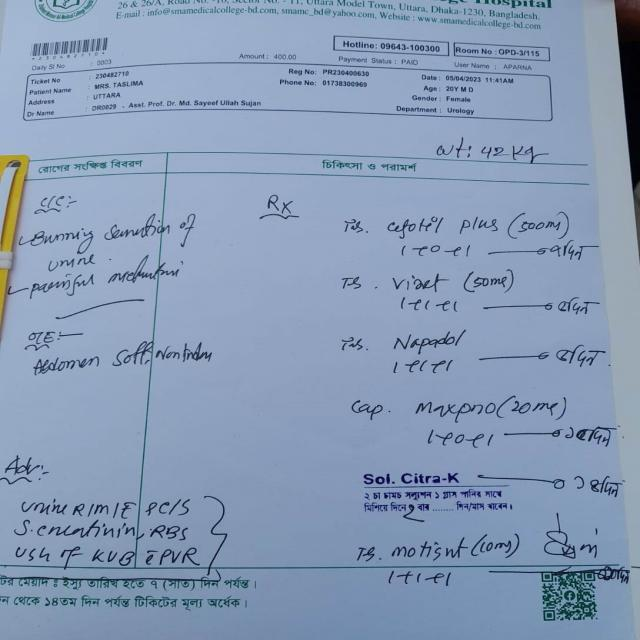Cefotil Plus: (381, 204, 506, 241)
Maxpro: (405, 390, 497, 424)
Motigut: (386, 526, 463, 566)
Napadol: (391, 326, 473, 358)
Viset: (388, 266, 444, 297)
